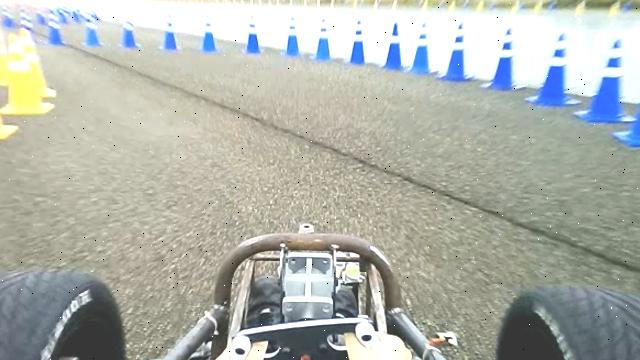blue cone: (574, 38, 637, 123), (526, 32, 582, 106), (482, 24, 524, 90), (614, 47, 640, 148), (437, 20, 475, 82), (405, 20, 437, 75), (382, 21, 404, 70), (348, 17, 367, 64)
yellow cone: (16, 27, 56, 98), (0, 45, 19, 140), (0, 22, 11, 84)
